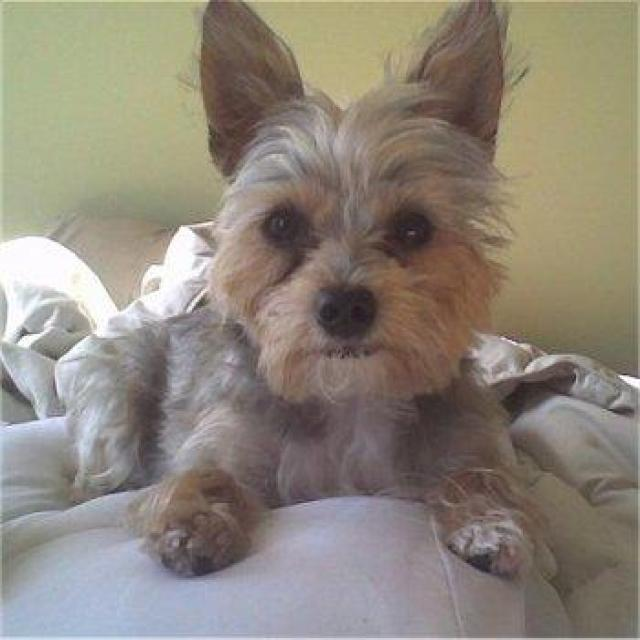toy_terrier: (53, 0, 561, 586)
